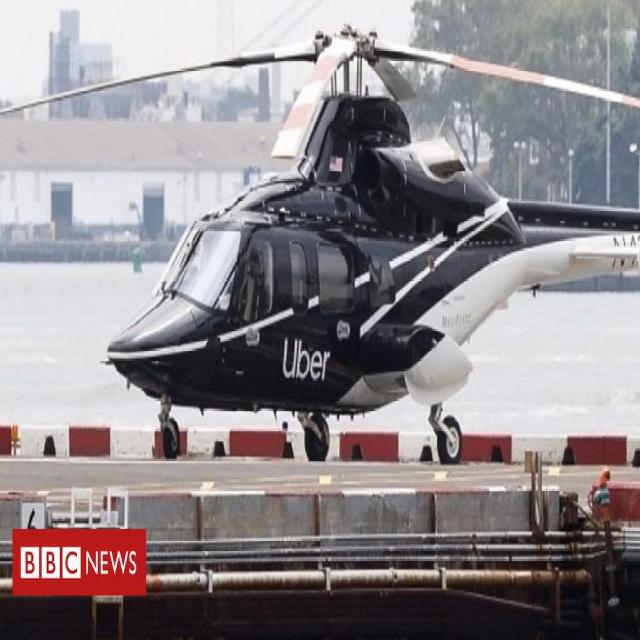helicopter: (96, 8, 640, 466)
